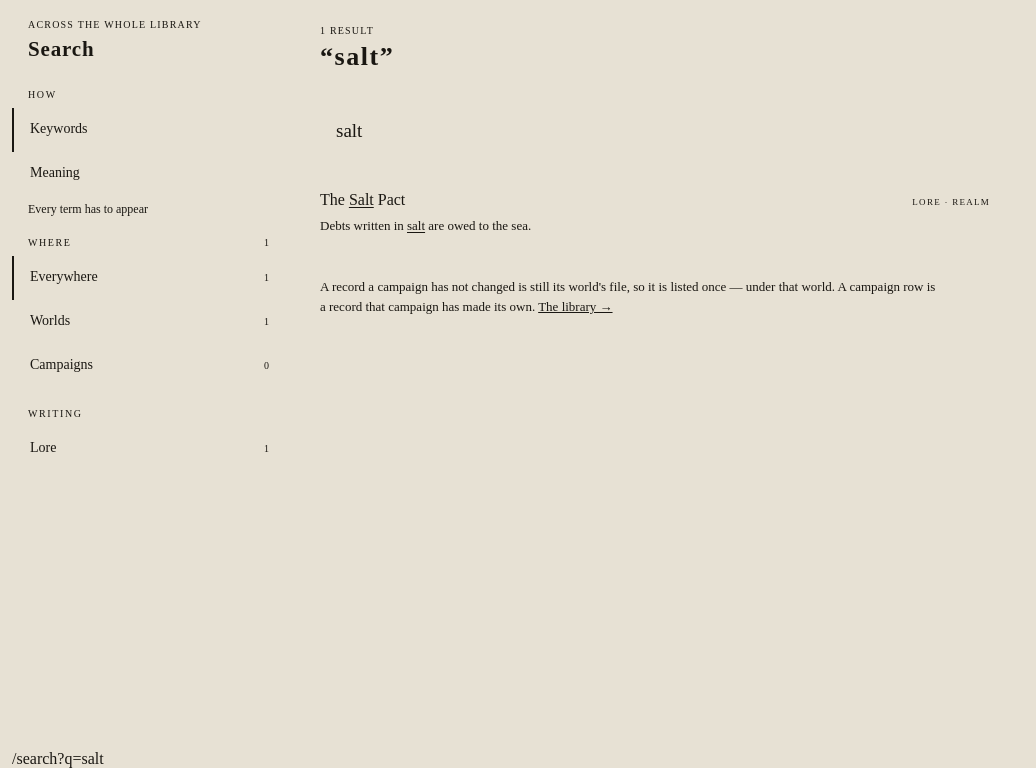
Test: the mode is part of the query and lives in the URL like every other filter
The width and height of the screenshot is (1036, 768).
Expected: the link "The Salt Pact" is shown, [320,191,990,234]
Click the button "Meaning".
click(55, 173)  # box [12,152,286,196]
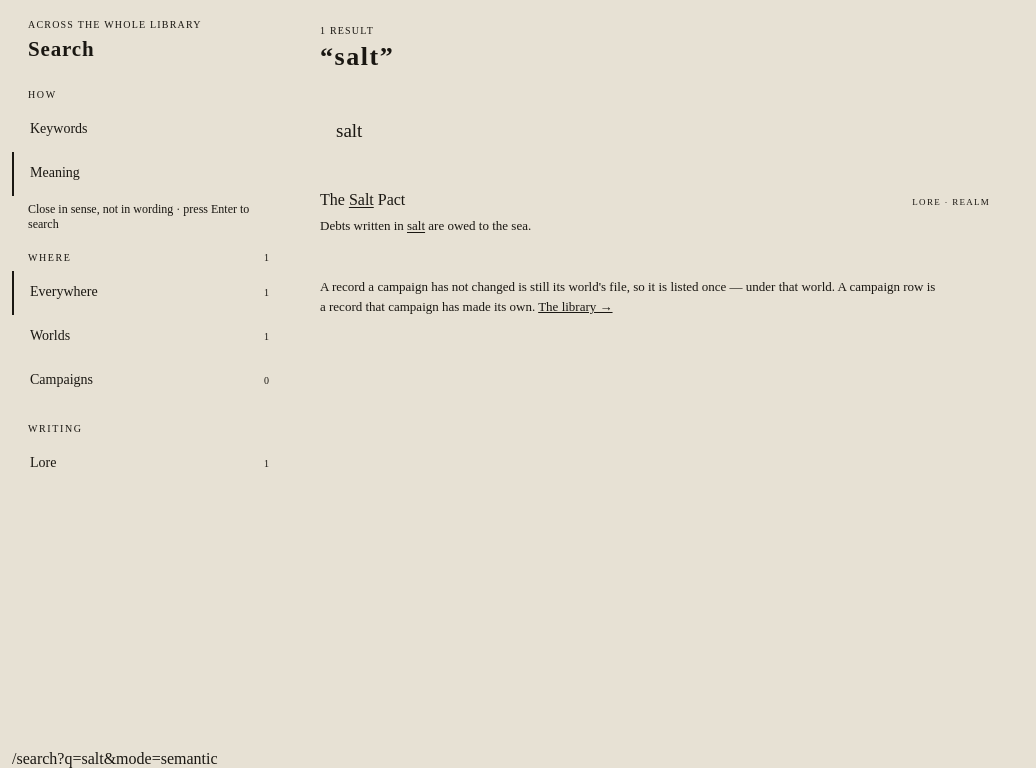
Now the text with test id "where" shows "mode=semantic", box [12,750,218,767]
